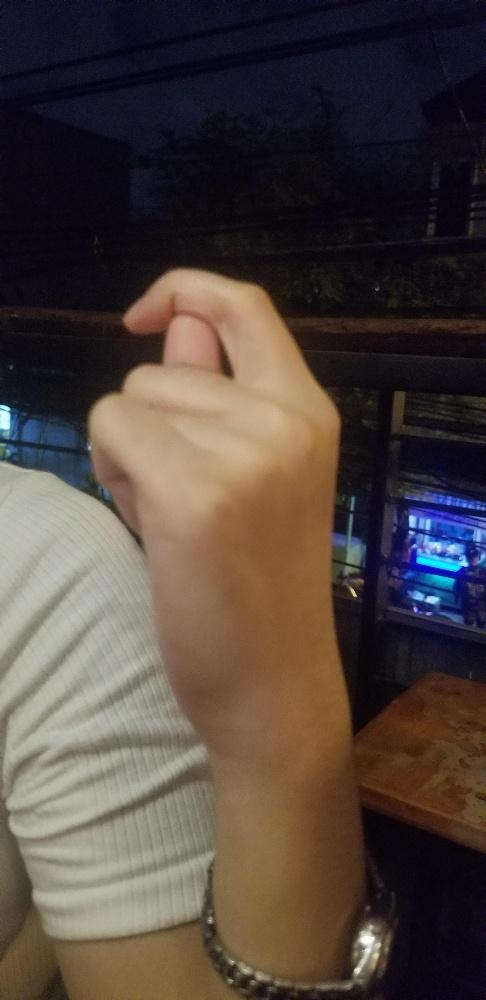t: (85, 266, 343, 747)
